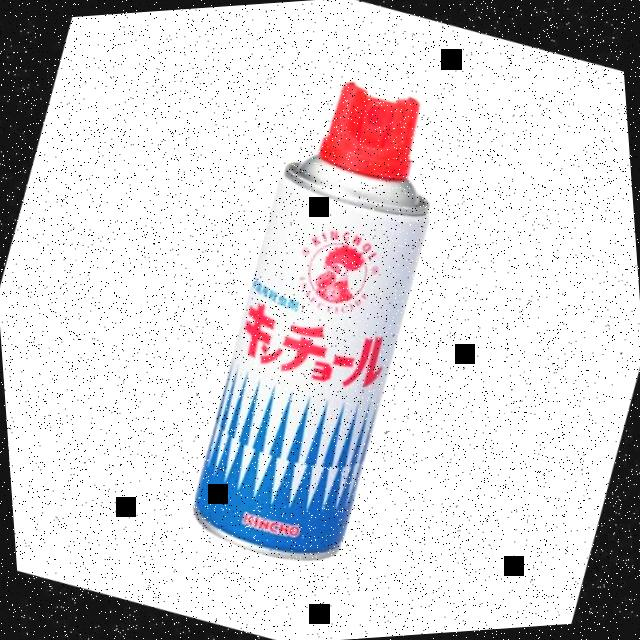chemical_spray_can: (193, 81, 428, 557)
